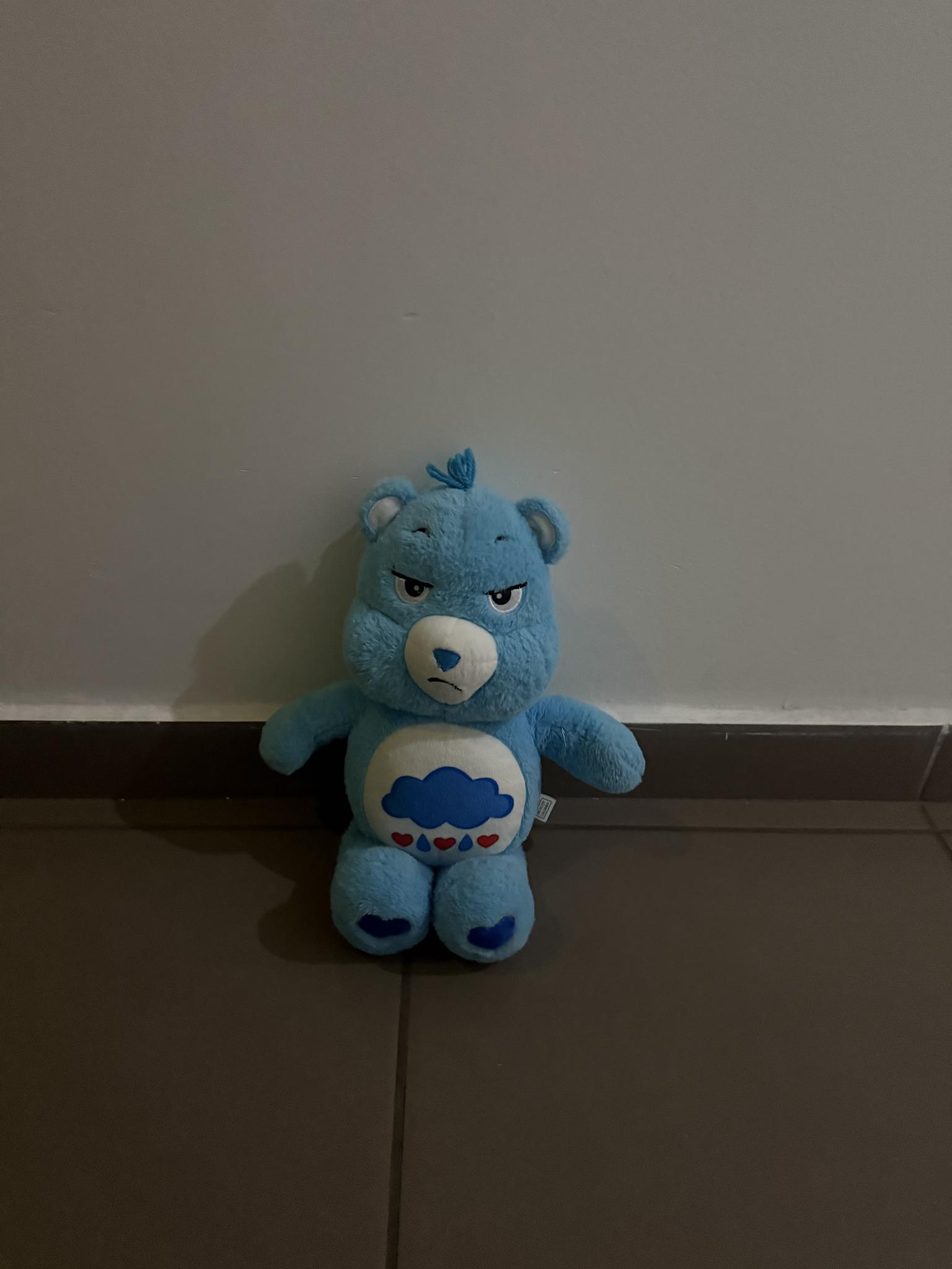peluche_Juan Jose: (249, 449, 656, 971)
